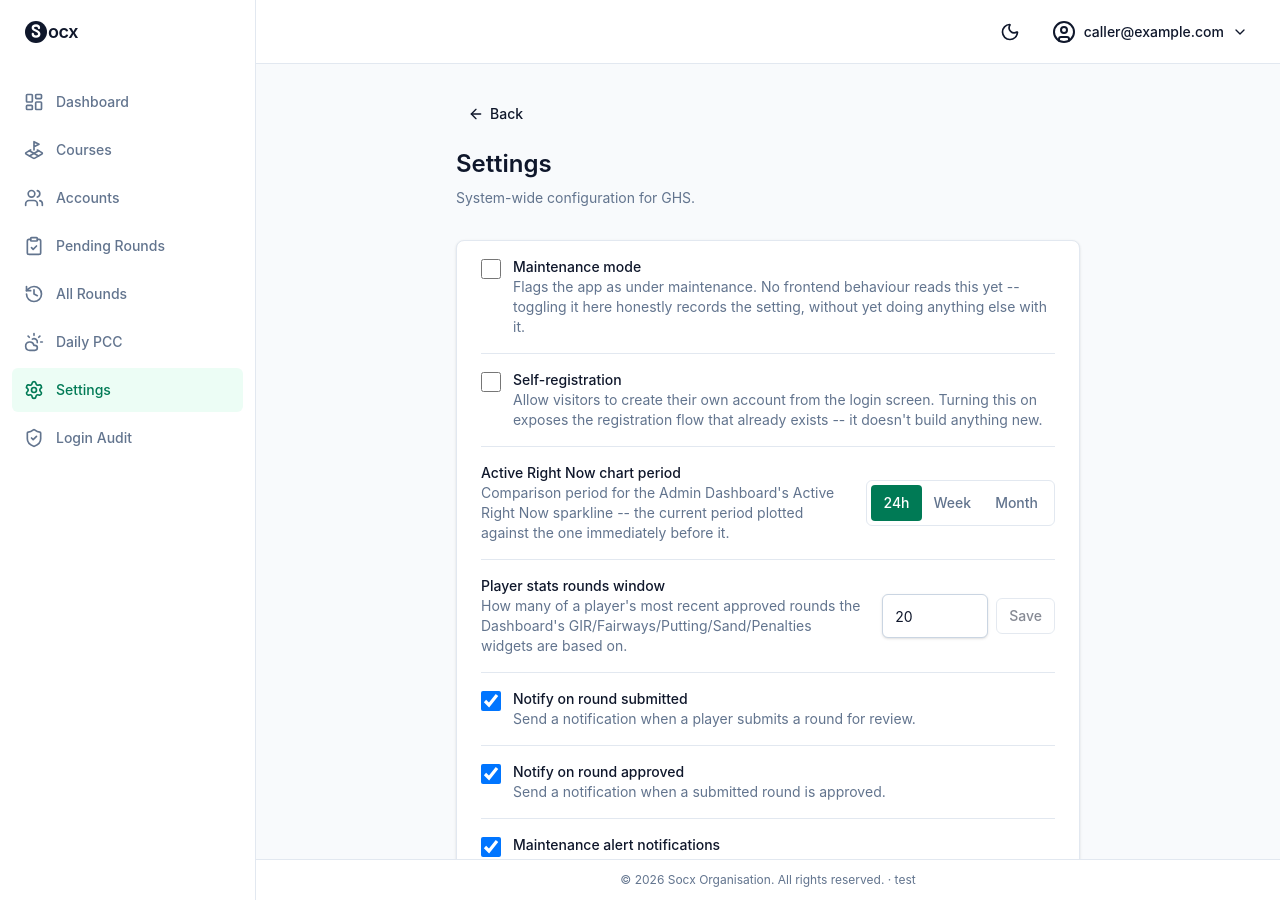
AdminSettingsPage › shows the server's error message when a toggle fails, without changing the checkbox
Click the checkbox labelled "Maintenance mode".
click(491, 269)  # box [481, 259, 501, 279]
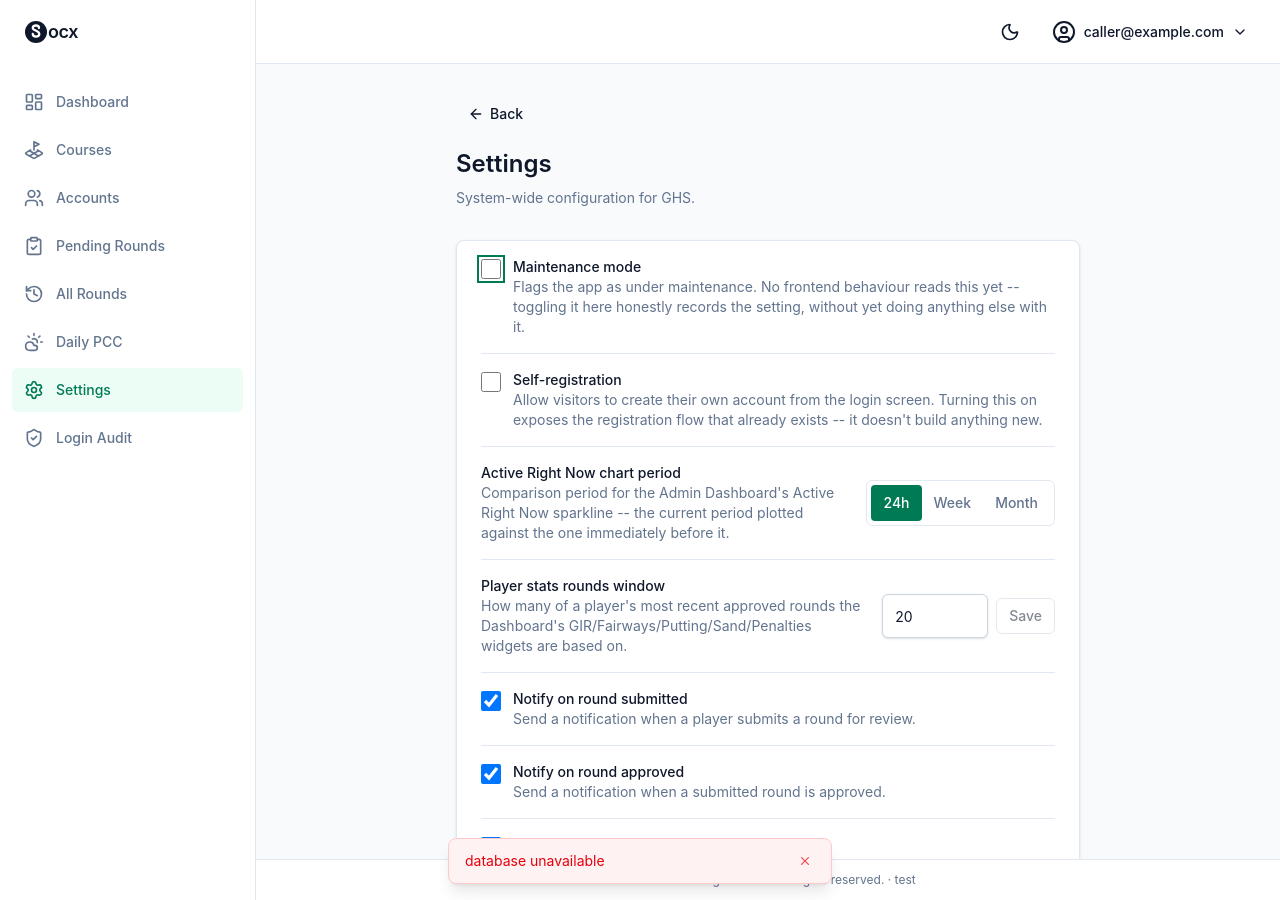
expect the message reads "database unavailable": met, box [465, 852, 605, 869]
